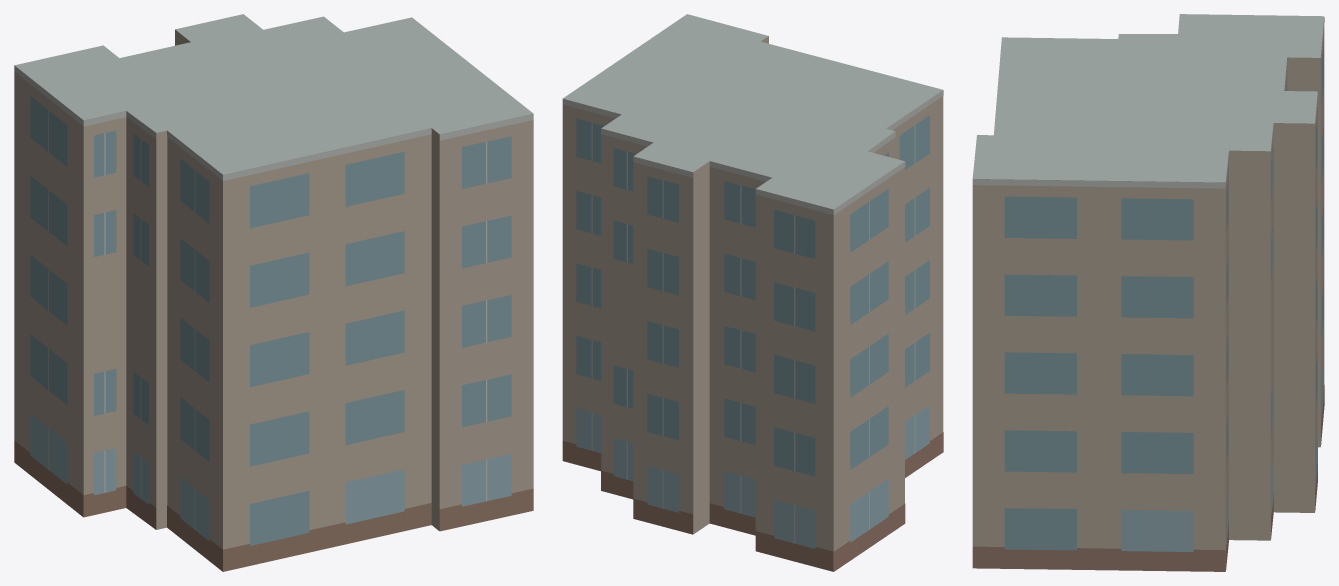
File: survey-upis-32689487.glb
The picture shows the model from 3 angles, left to right: view 1: azimuth 30°, elevation 25°; view 2: azimuth 150°, elevation 25°; view 3: azimuth 270°, elevation 25°; orthographic projection. The views are drawn at different scales.
Visible parts, largest first — view 1: survey-upis-32689487.tmp; view 2: survey-upis-32689487.tmp; view 3: survey-upis-32689487.tmp.
Part boxes in pixels (bbox=[...]): survey-upis-32689487.tmp: bbox=[14, 14, 533, 571]; survey-upis-32689487.tmp: bbox=[562, 14, 943, 571]; survey-upis-32689487.tmp: bbox=[972, 14, 1324, 571].
Size of the model in its own units: 14.29 by 15.4 by 12.62.
